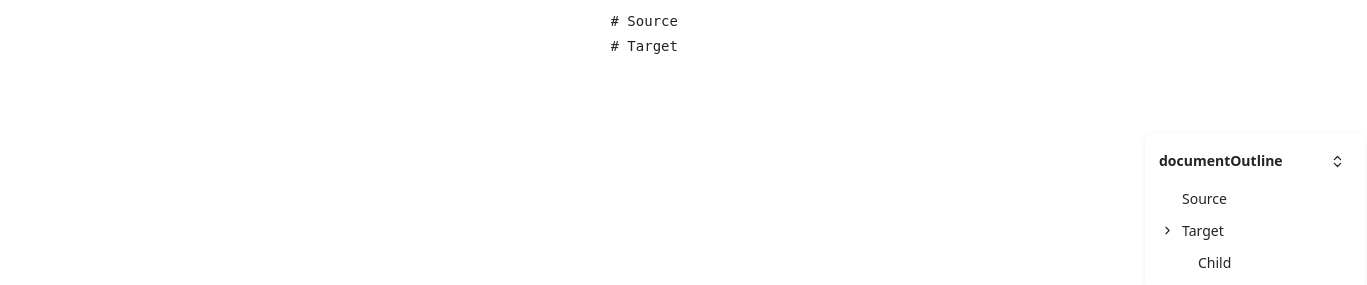
Scenario: EditorWorkspace outline drag › auto-expands a collapsed target after 500ms and cancels without moving on Escape
The width and height of the screenshot is (1367, 285).
Press the mouse on the element with class "content-outline-row" showing "Source" at coordinates (1255, 199), box [1159,187,1351,211]
Wait 500 ms
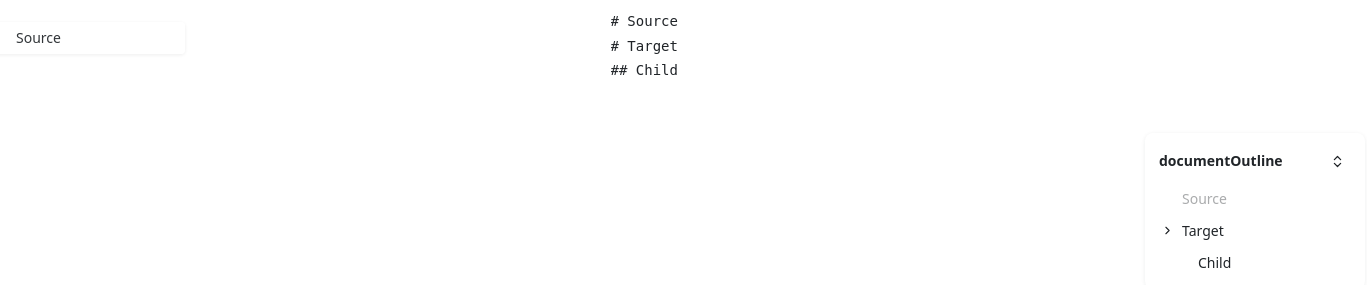
Press Escape
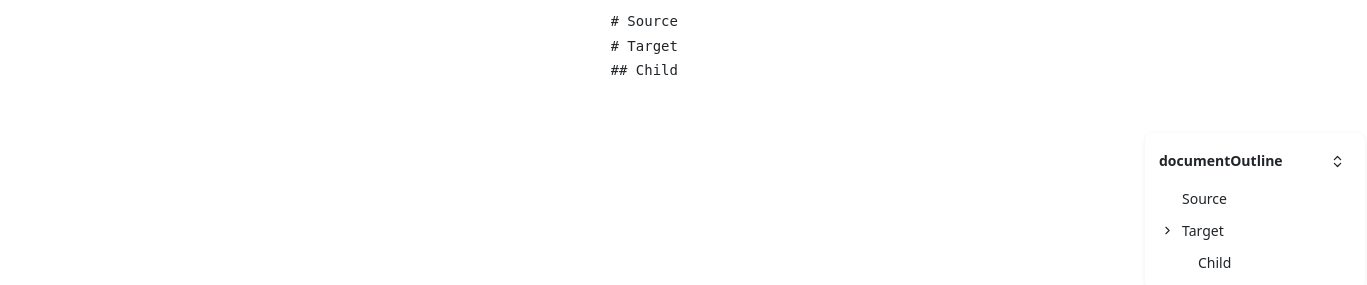
Check: the element with class "outline-drag-preview" is gone
